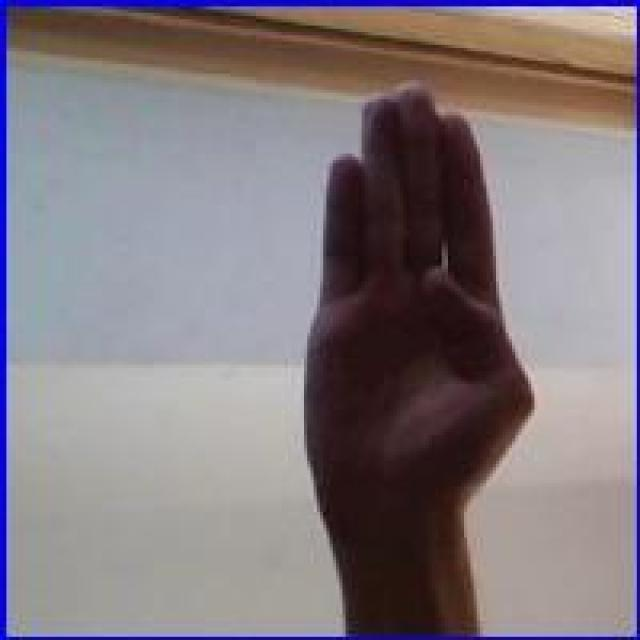B: (293, 72, 539, 530)
